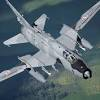maybay_muctieu: (2, 2, 95, 83)
